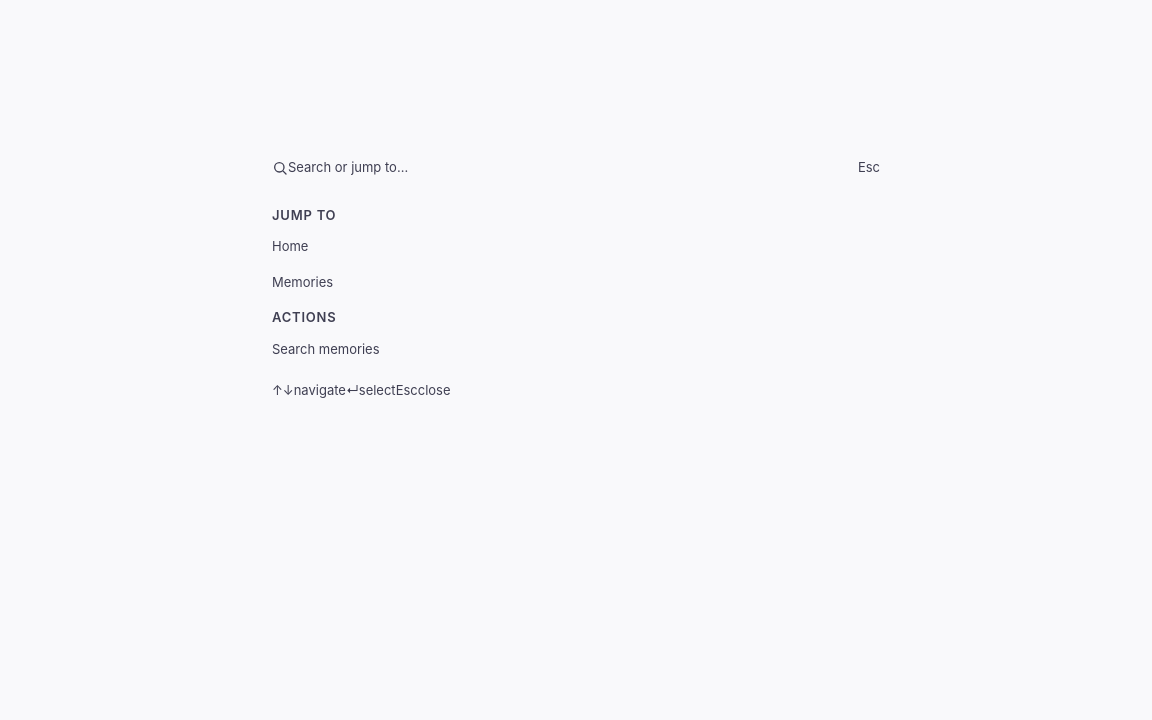
Test case: CommandPalette — rendering › shows empty state when no commands match query
The image size is (1152, 720).
Type "zzznomatch" into the field with placeholder "Search or jump to…".
click(573, 168); type("zzznomatch")  # box [288,158,858,178]
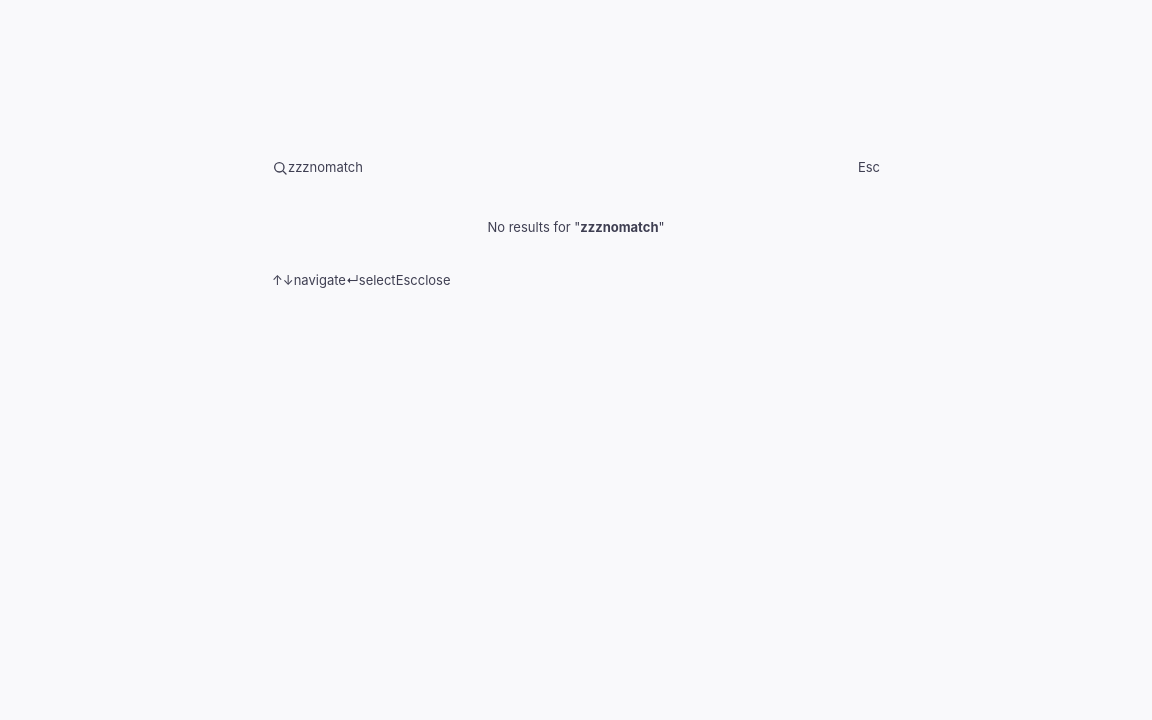
Now the list item with class "empty-state" is shown, box [487,218,664,234]
